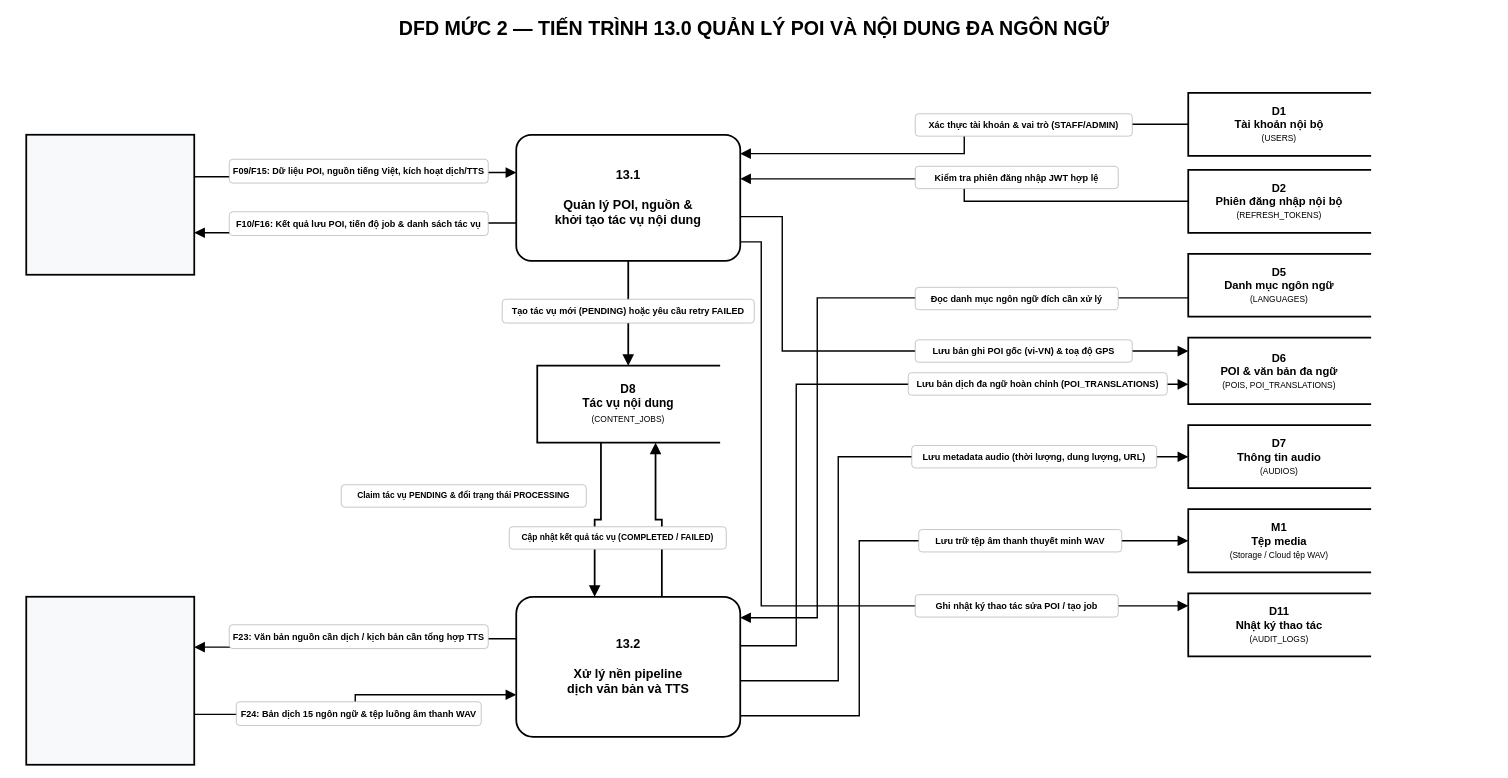
The diagram is 1508 pixels wide and 778 high, and some of its shapes have lost their labels. The shapes that lost their labels are listed below. From the top down, each one's centre as x and y in pixels, then its label:
At [110,204]: "E2 / E3 Nhân viên / Quản trị viên (STAFF / ADMIN)".
At [110,680]: "E5 Dịch vụ dịch & TTS (Google Translate / Piper TTS)".
